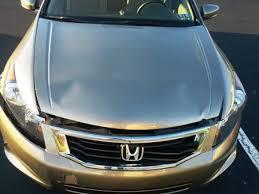bonnet-dent: (34, 51, 122, 121)
